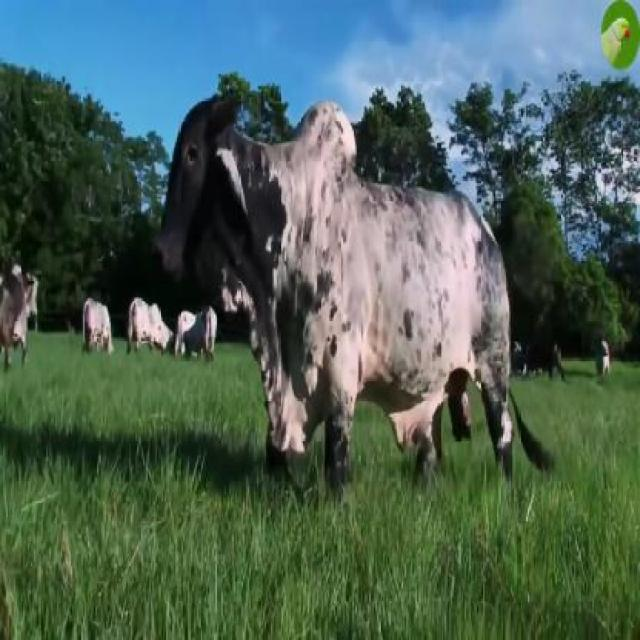Cow: (157, 97, 512, 485)
